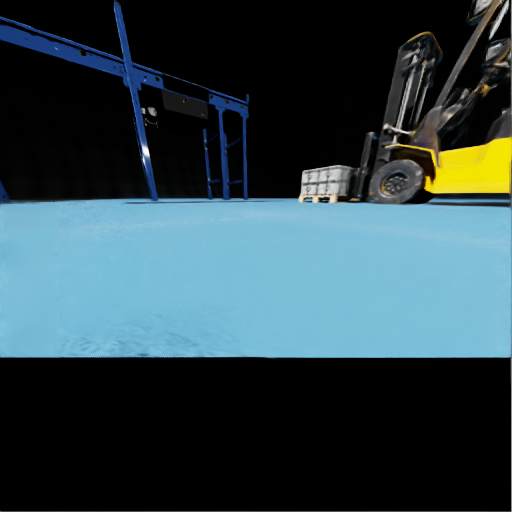transportation_area: (317, 180, 355, 194), (124, 69, 126, 71), (144, 76, 145, 77), (124, 66, 125, 67)
